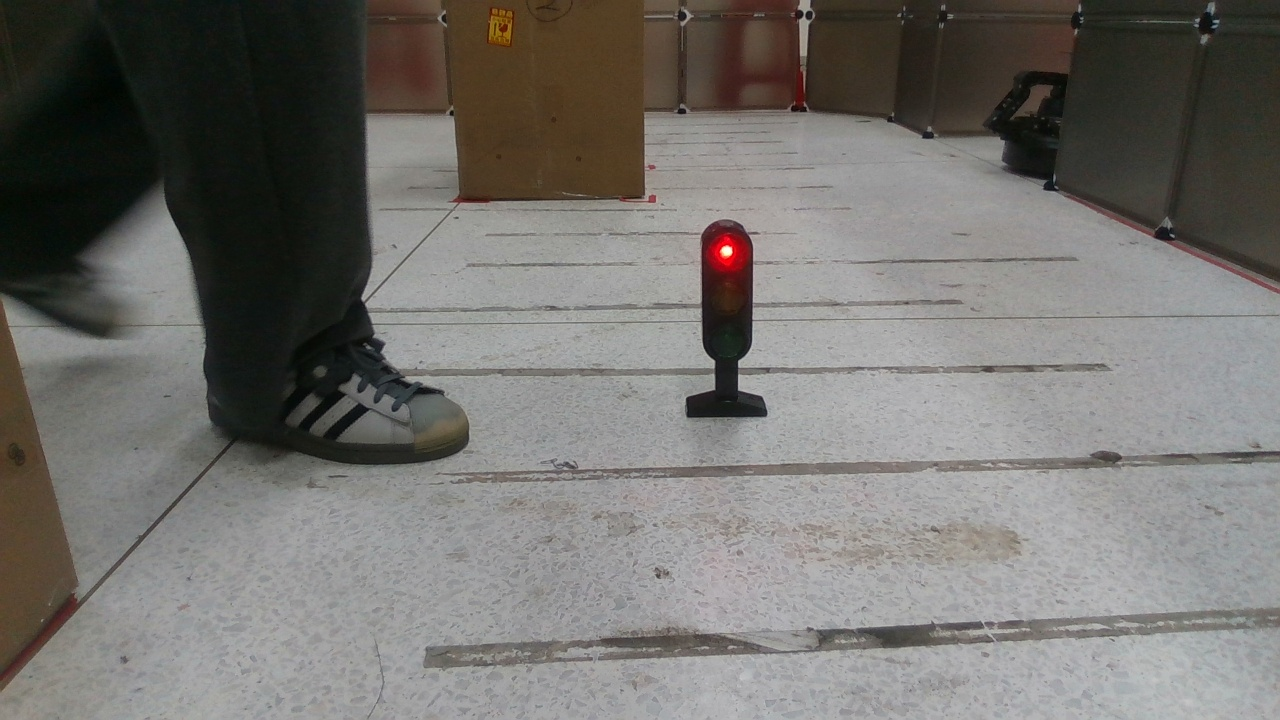Red traffic light: (688, 215, 772, 420)
